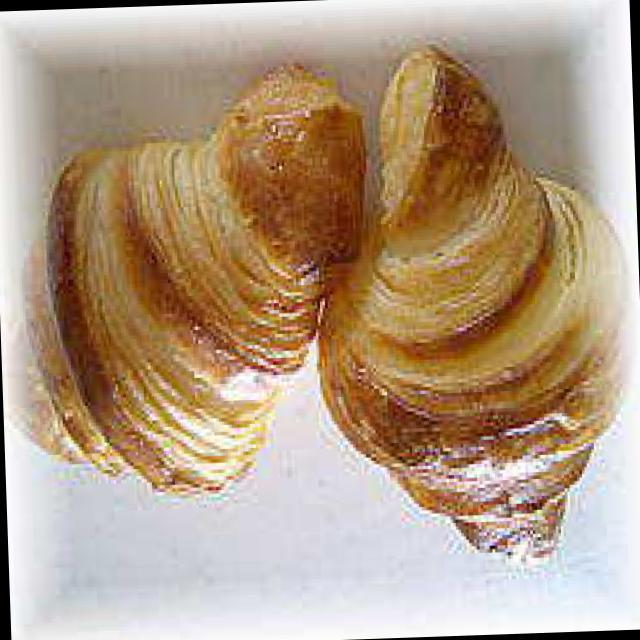Croissant: (317, 32, 628, 620), (0, 86, 357, 504)
